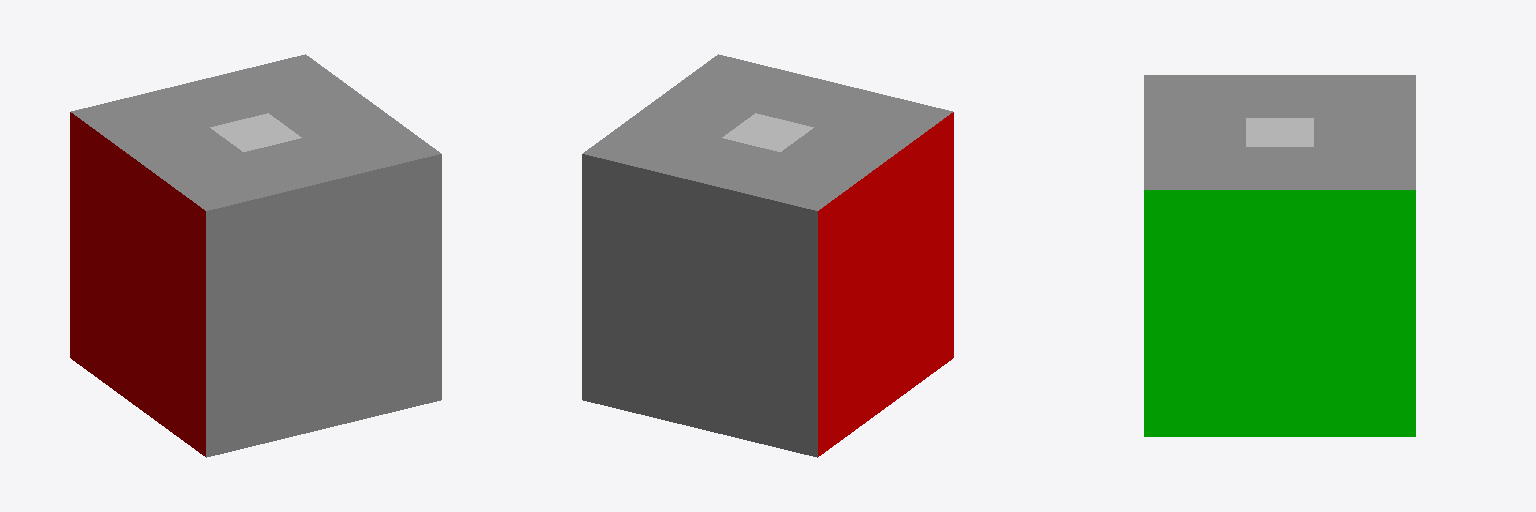
File: cornell.obj
The picture shows the model from 3 angles: view 1: azimuth 30°, elevation 25°; view 2: azimuth 150°, elevation 25°; view 3: azimuth 270°, elevation 25°; orthographic projection.
Size of the model in its own units: 2 by 2 by 2.